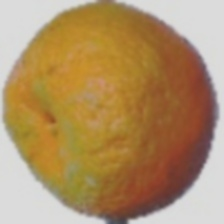tangerine: (16, 11, 183, 213)
